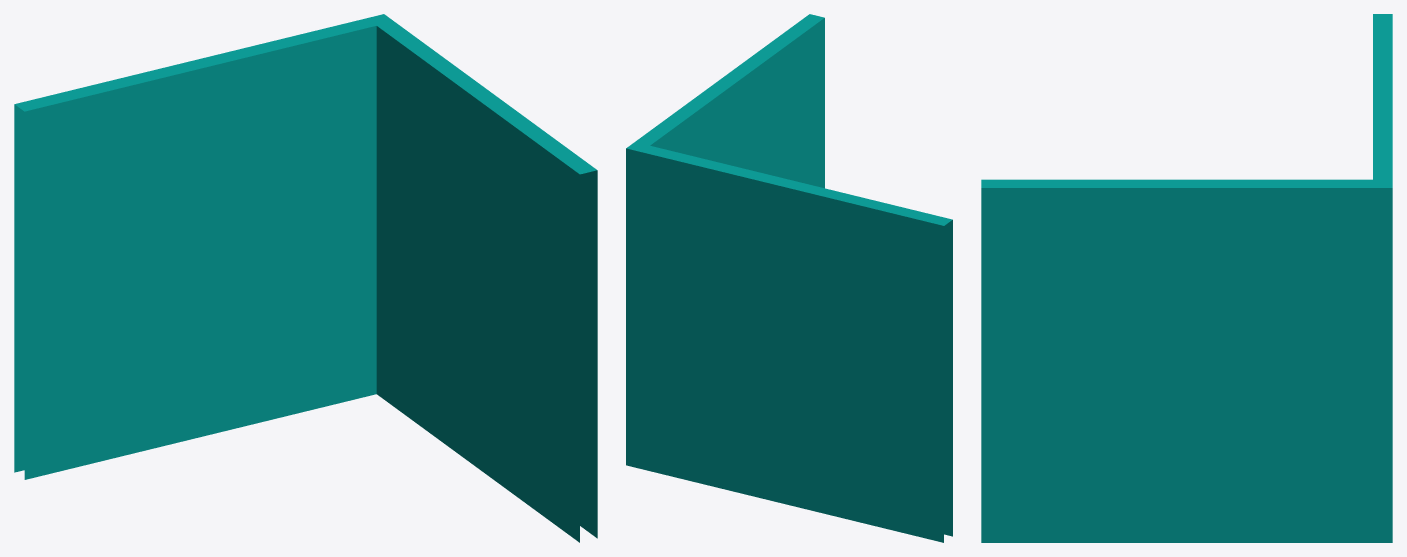
File: En_W_wallkonkav2.fbx
The picture shows the model from 3 angles, left to right: view 1: azimuth 30°, elevation 25°; view 2: azimuth 150°, elevation 25°; view 3: azimuth 270°, elevation 25°; orthographic projection. The views are drawn at different scales.
Visible parts, largest first — view 1: En_W_wallkonkav2; view 2: En_W_wallkonkav2; view 3: En_W_wallkonkav2.
Boxes of the visible parts, <box> form: En_W_wallkonkav2: <box>14,14,597,542</box>; En_W_wallkonkav2: <box>626,14,952,542</box>; En_W_wallkonkav2: <box>981,14,1392,542</box>.
Size of the model in its own units: 420 by 400 by 420.
